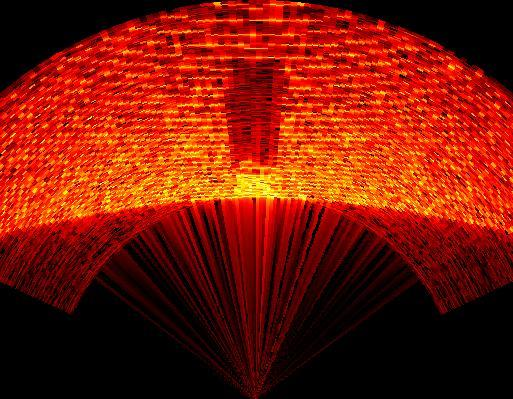box_crate: (221, 57, 283, 172)
